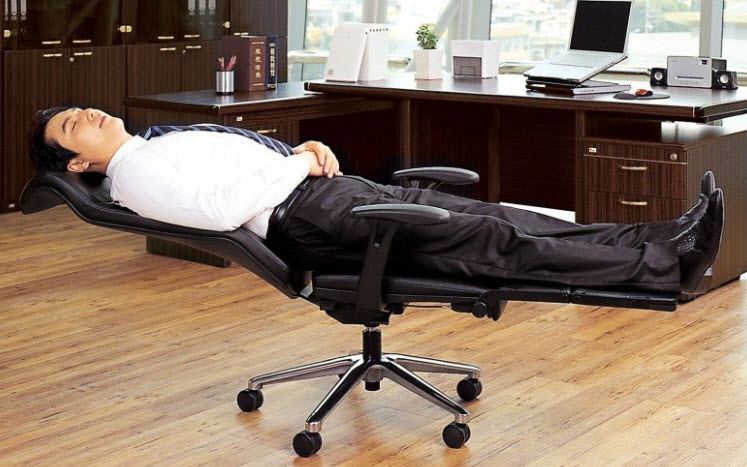chairs: (43, 161, 729, 459)
